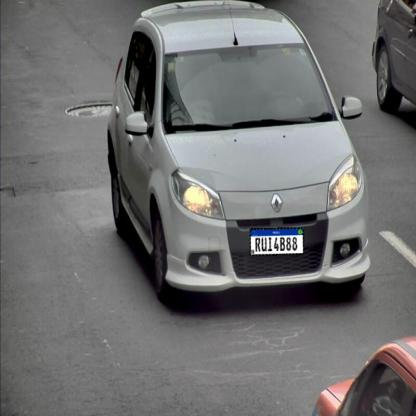PlacaM: (250, 227, 304, 256)
